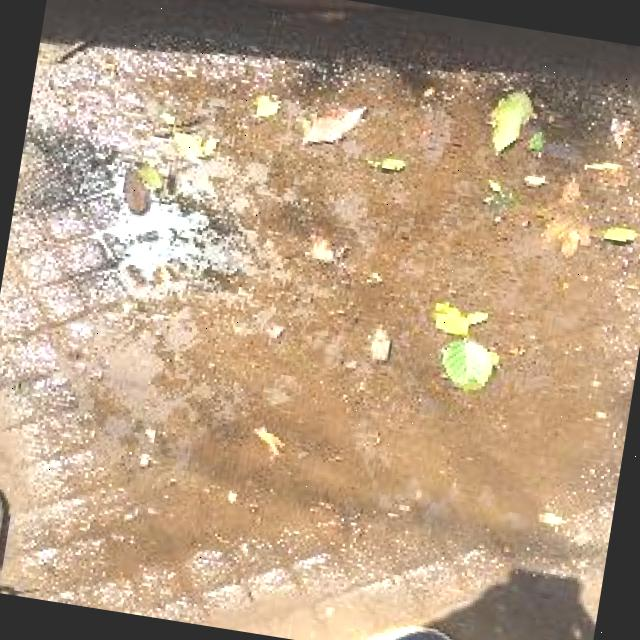stagnation: (59, 14, 640, 565)
